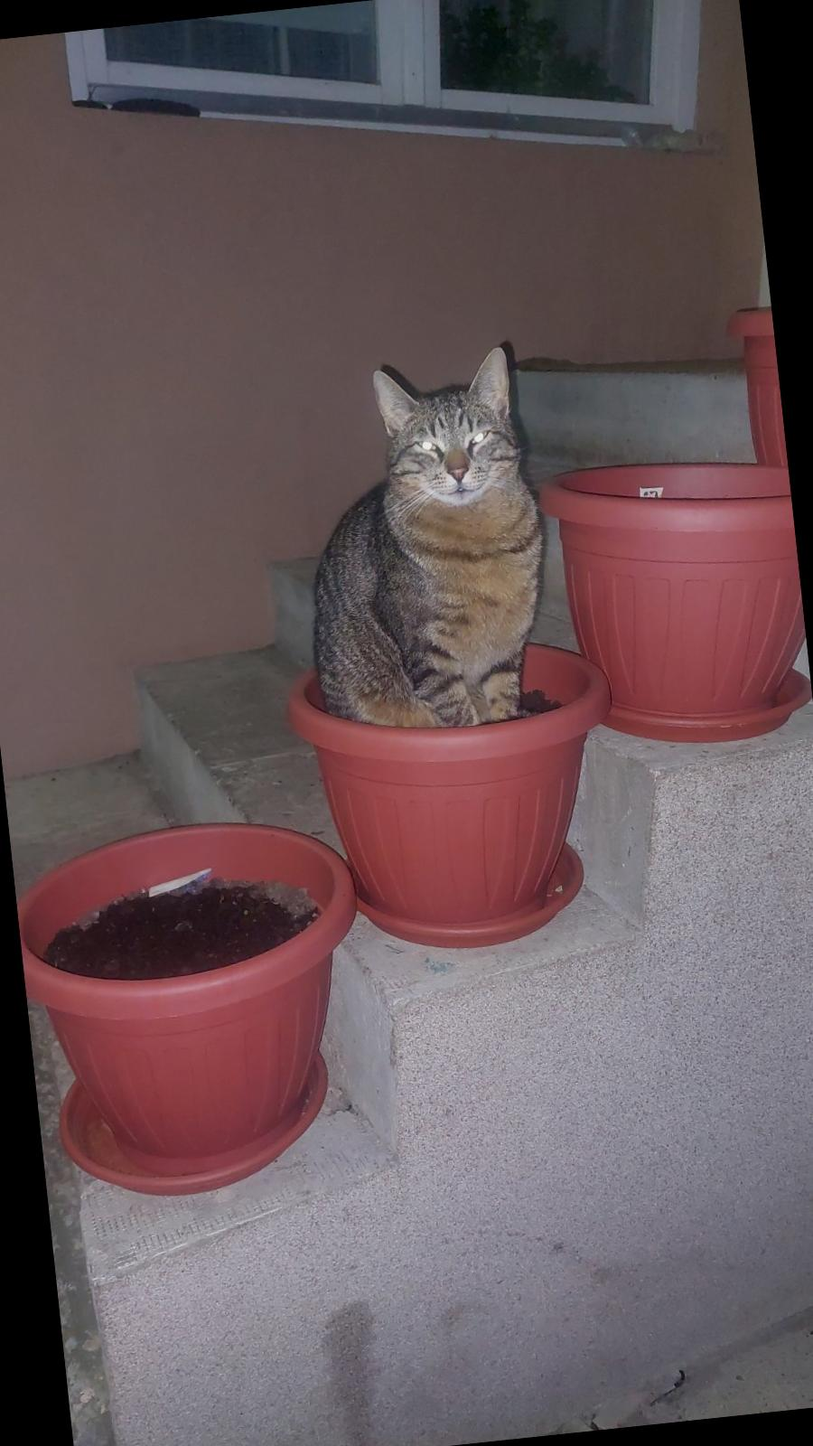macka: (282, 342, 564, 759)
